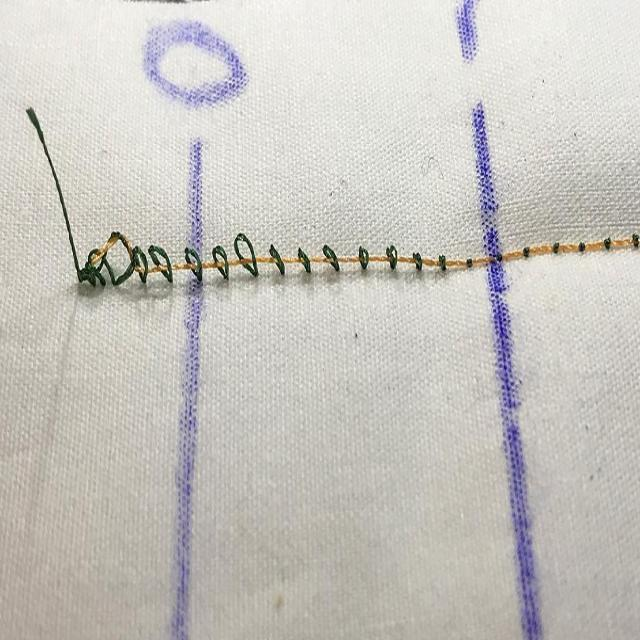gray stitch: (70, 222, 640, 300)
